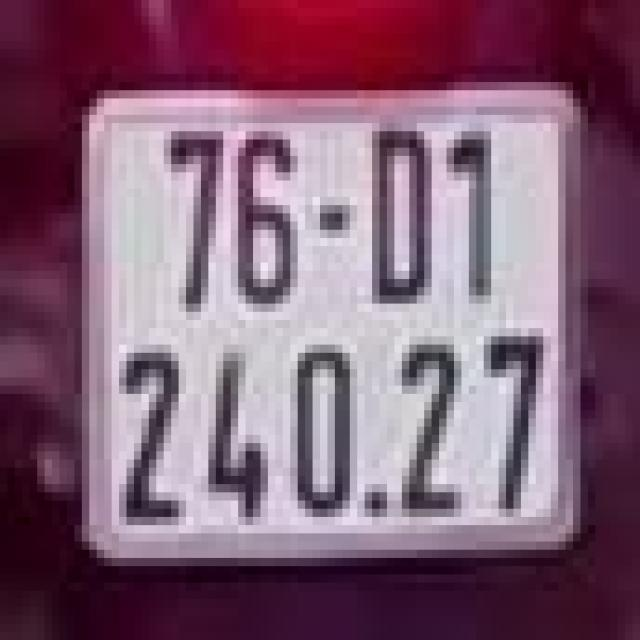0: (279, 324, 361, 529)
1: (446, 110, 498, 308)
2: (100, 324, 190, 529), (394, 332, 469, 530)
4: (193, 332, 268, 538)
6: (223, 123, 298, 304)
7: (476, 316, 551, 513), (167, 115, 227, 312)
D: (365, 106, 439, 304)
